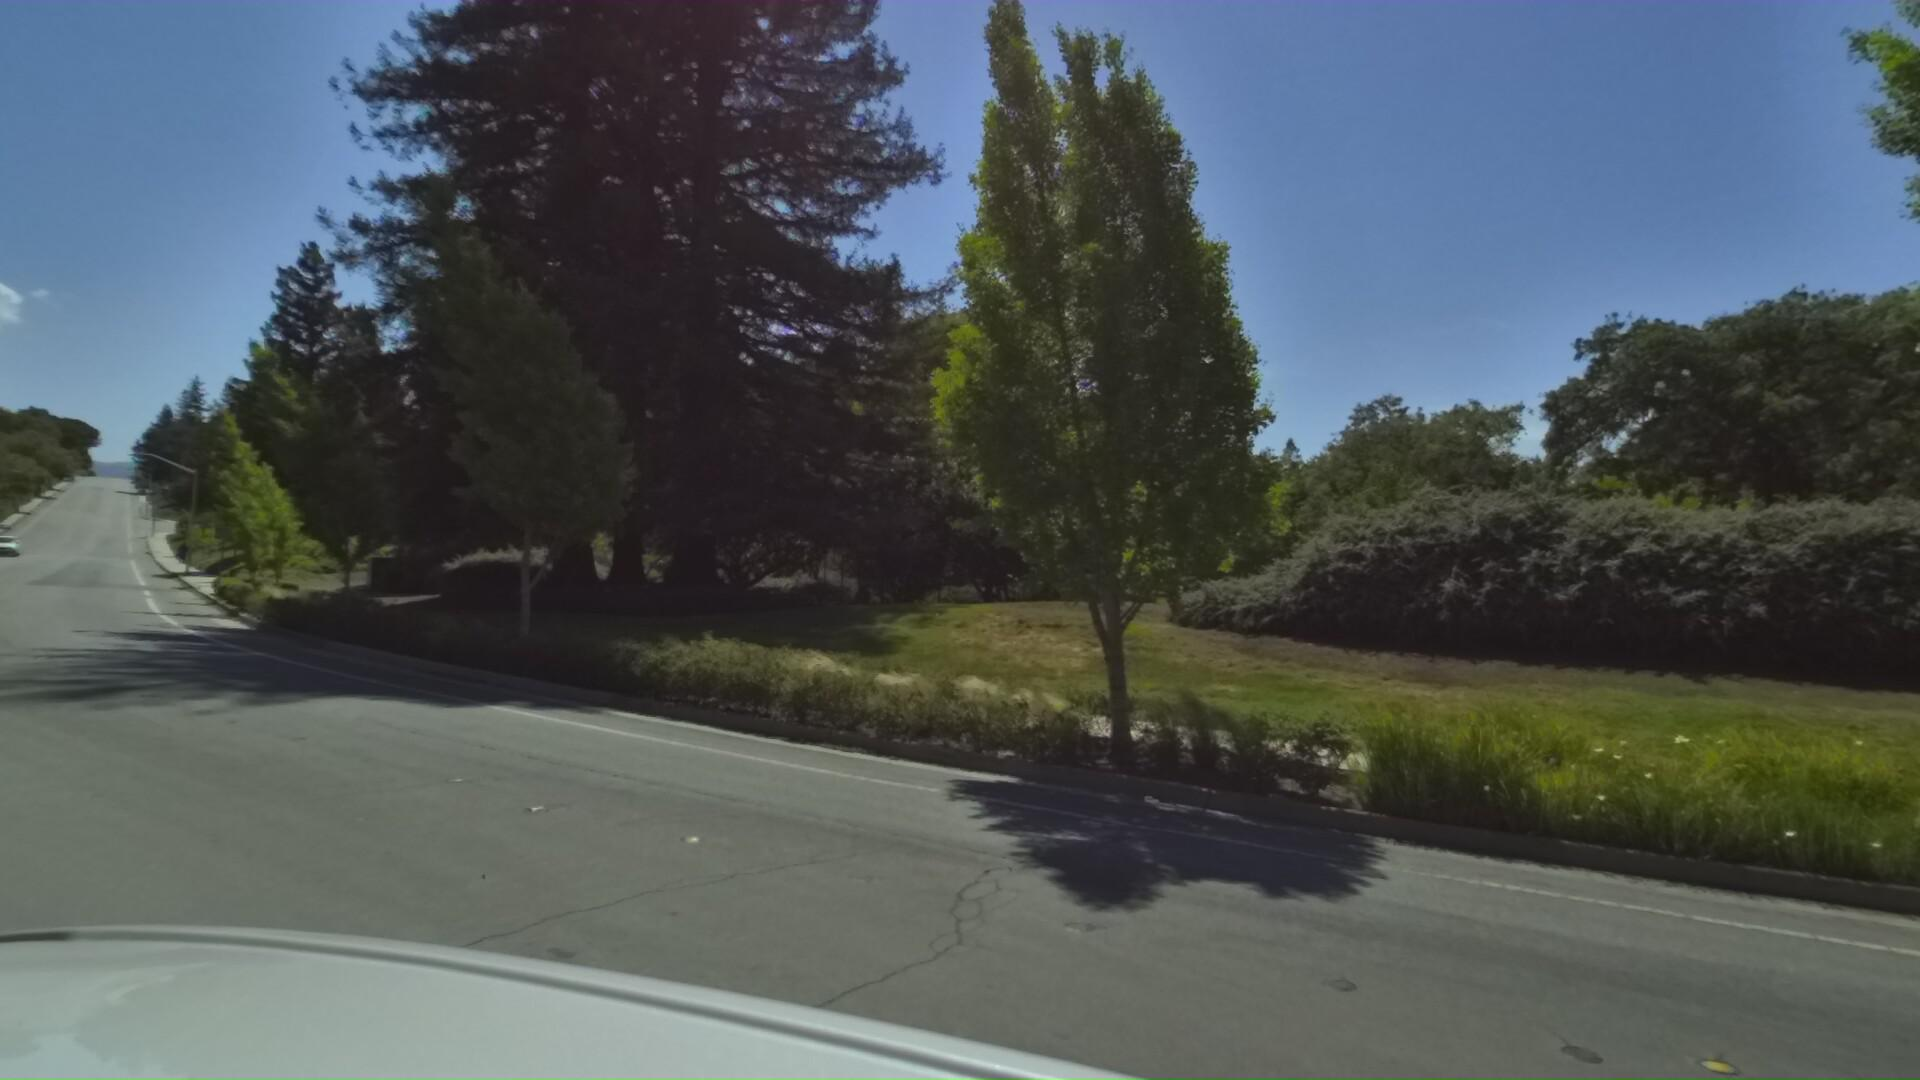car: (0, 535, 8, 567)
